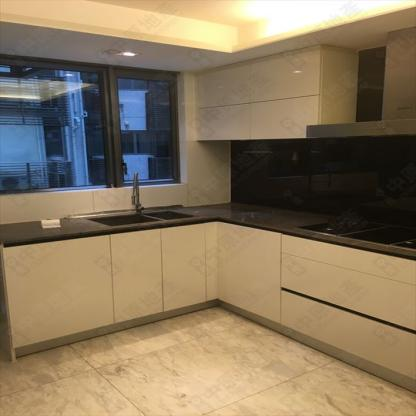Cupboard: (4, 220, 415, 378), (193, 44, 320, 139)
Exhaust Hood: (305, 24, 415, 136)
Faucet: (123, 169, 147, 211)
Sink: (89, 208, 198, 227)
Stove: (293, 217, 415, 252)
